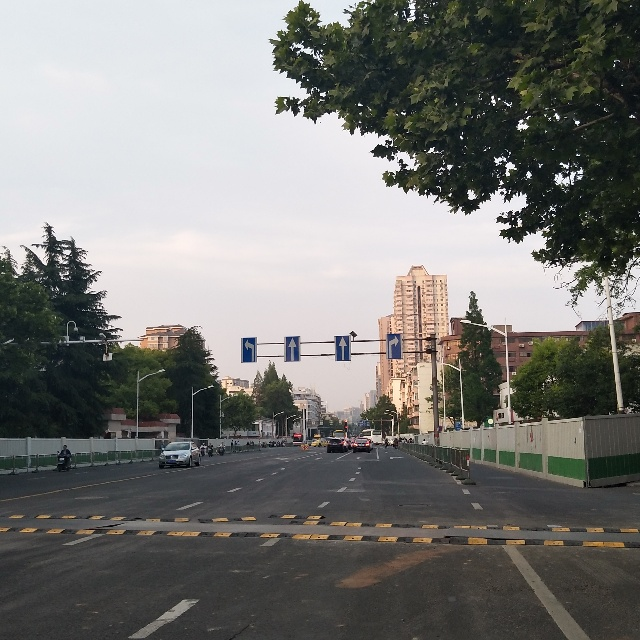left: (243, 336, 258, 361)
right: (387, 334, 403, 359)
straight: (335, 335, 352, 363), (287, 336, 302, 362)
